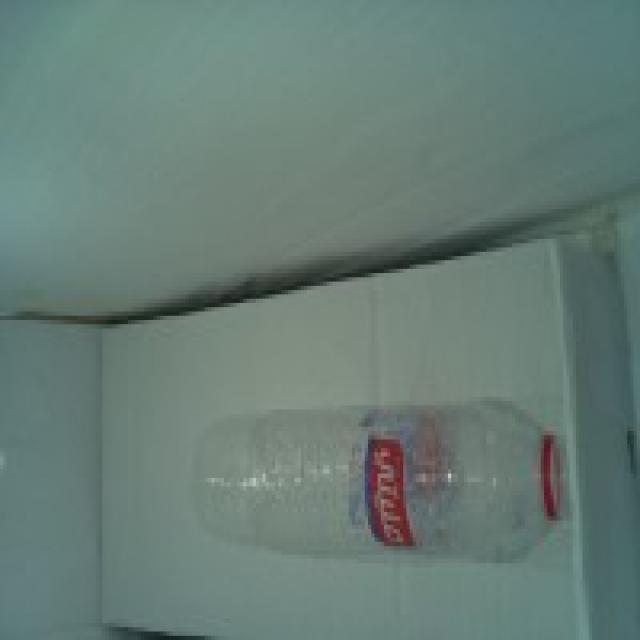Anorganik: (192, 384, 566, 589)
